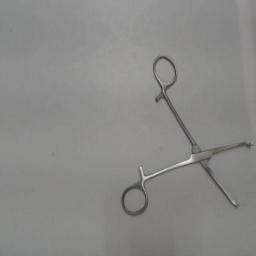Allis Tissue Forceps: (118, 50, 254, 222)
